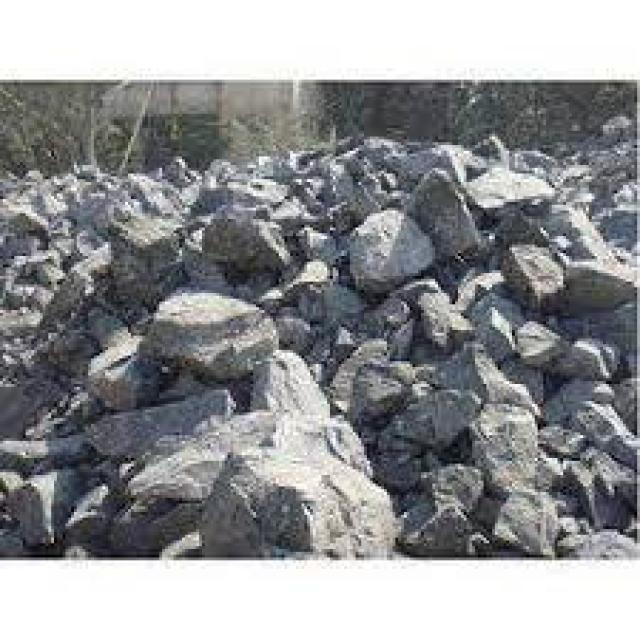rocks: (0, 117, 631, 555)
stone: (276, 279, 498, 489), (199, 350, 395, 555), (199, 447, 393, 555), (558, 404, 637, 555), (142, 293, 276, 378), (88, 390, 230, 455), (398, 464, 481, 552), (347, 208, 432, 290), (128, 432, 228, 501), (108, 213, 179, 302), (469, 404, 538, 489), (202, 205, 287, 273), (410, 171, 478, 253), (105, 498, 199, 552), (393, 390, 481, 447), (88, 336, 156, 407), (492, 489, 558, 555), (464, 165, 552, 208), (501, 245, 560, 304), (563, 262, 634, 310), (469, 293, 521, 358), (546, 378, 612, 418), (498, 358, 540, 412), (558, 338, 614, 378), (515, 321, 566, 364), (540, 432, 546, 447)
